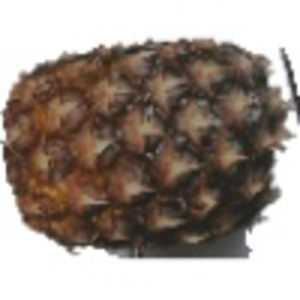abacaxi: (3, 30, 286, 247)
